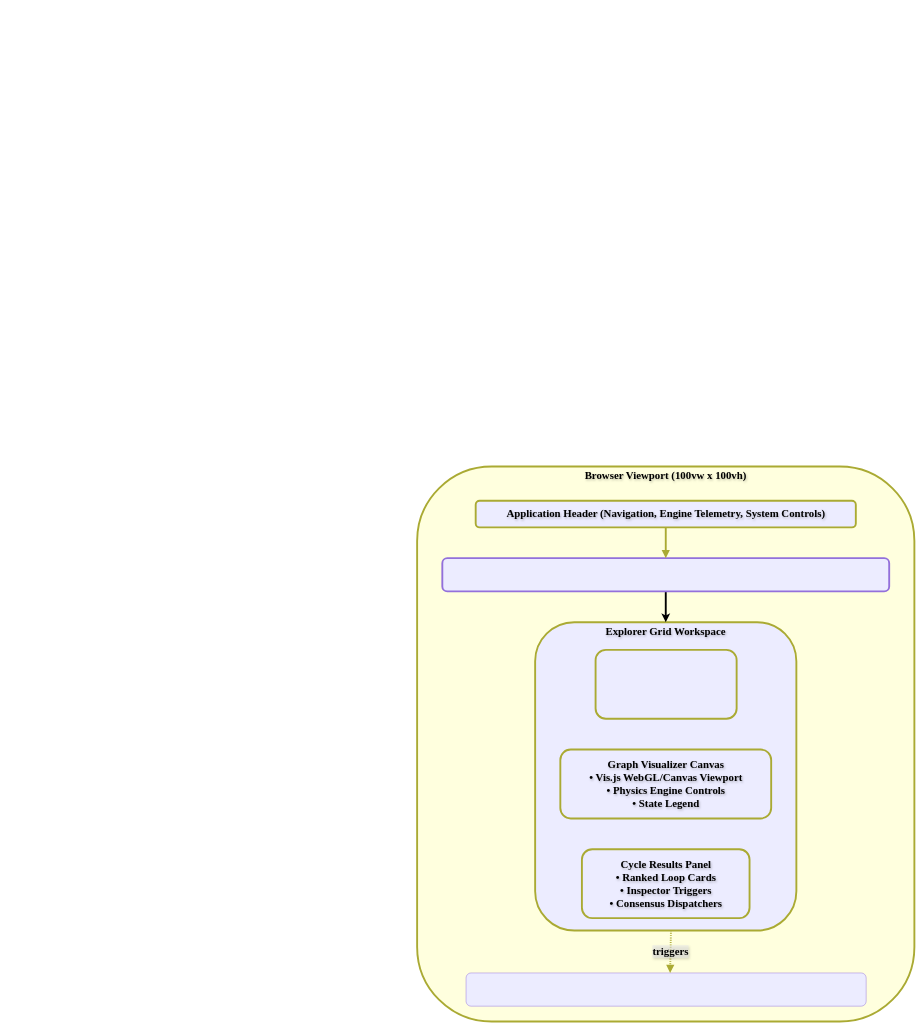
The diagram is 923 pixels wide and 1030 high, and some of its shapes have lost their labels. Here are the shapes that lost their labels. From the top down, the centre of each, then its label:
At point (665, 574): "Metrics Strip (Aggregate Counters: Users, Active Proposals, Discovered Cycles)".
At point (665, 684): "Control Panel • Tuning Slider (α) • Depth Bounds (k) • Dispatch Triggers".
At point (666, 989): "Modal Presentation Layer (User Profile Registration, Input Validation)".
